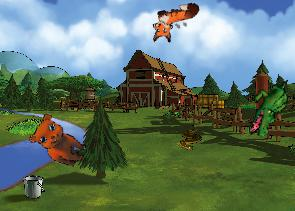bear: (25, 110, 94, 170)
crocodile: (247, 76, 290, 139)
fox: (146, 0, 204, 45)
